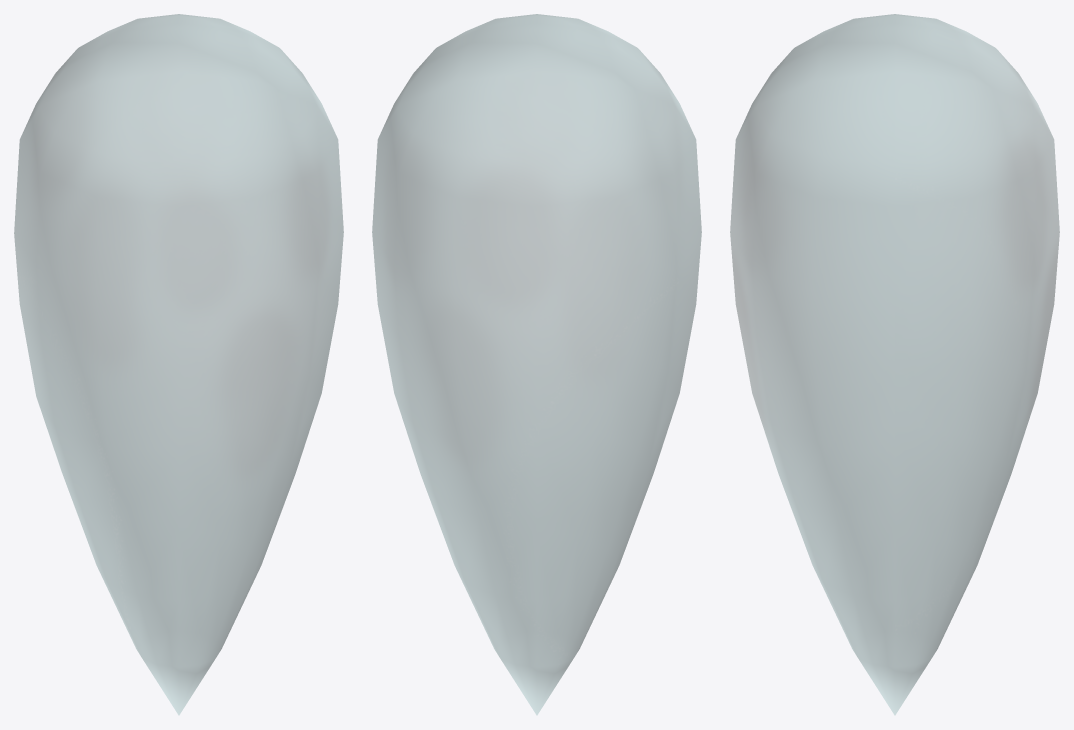
Rendered from Soulssoul02.fbx.
3 views of the same model, side by side, from view 1: azimuth 30°, elevation 25°; view 2: azimuth 150°, elevation 25°; view 3: azimuth 270°, elevation 25° (orthographic).
Parts seen in each view (by area): view 1: soul; view 2: soul; view 3: soul.
Boxes of the visible parts, left/top/right/bottom form: soul: left=14, top=14, right=343, bottom=715; soul: left=372, top=14, right=701, bottom=715; soul: left=730, top=14, right=1059, bottom=715.
Bounding box in the file's own units: 0.3651 × 0.8394 × 0.3651.
Materials: 1 (1 with a texture image).
